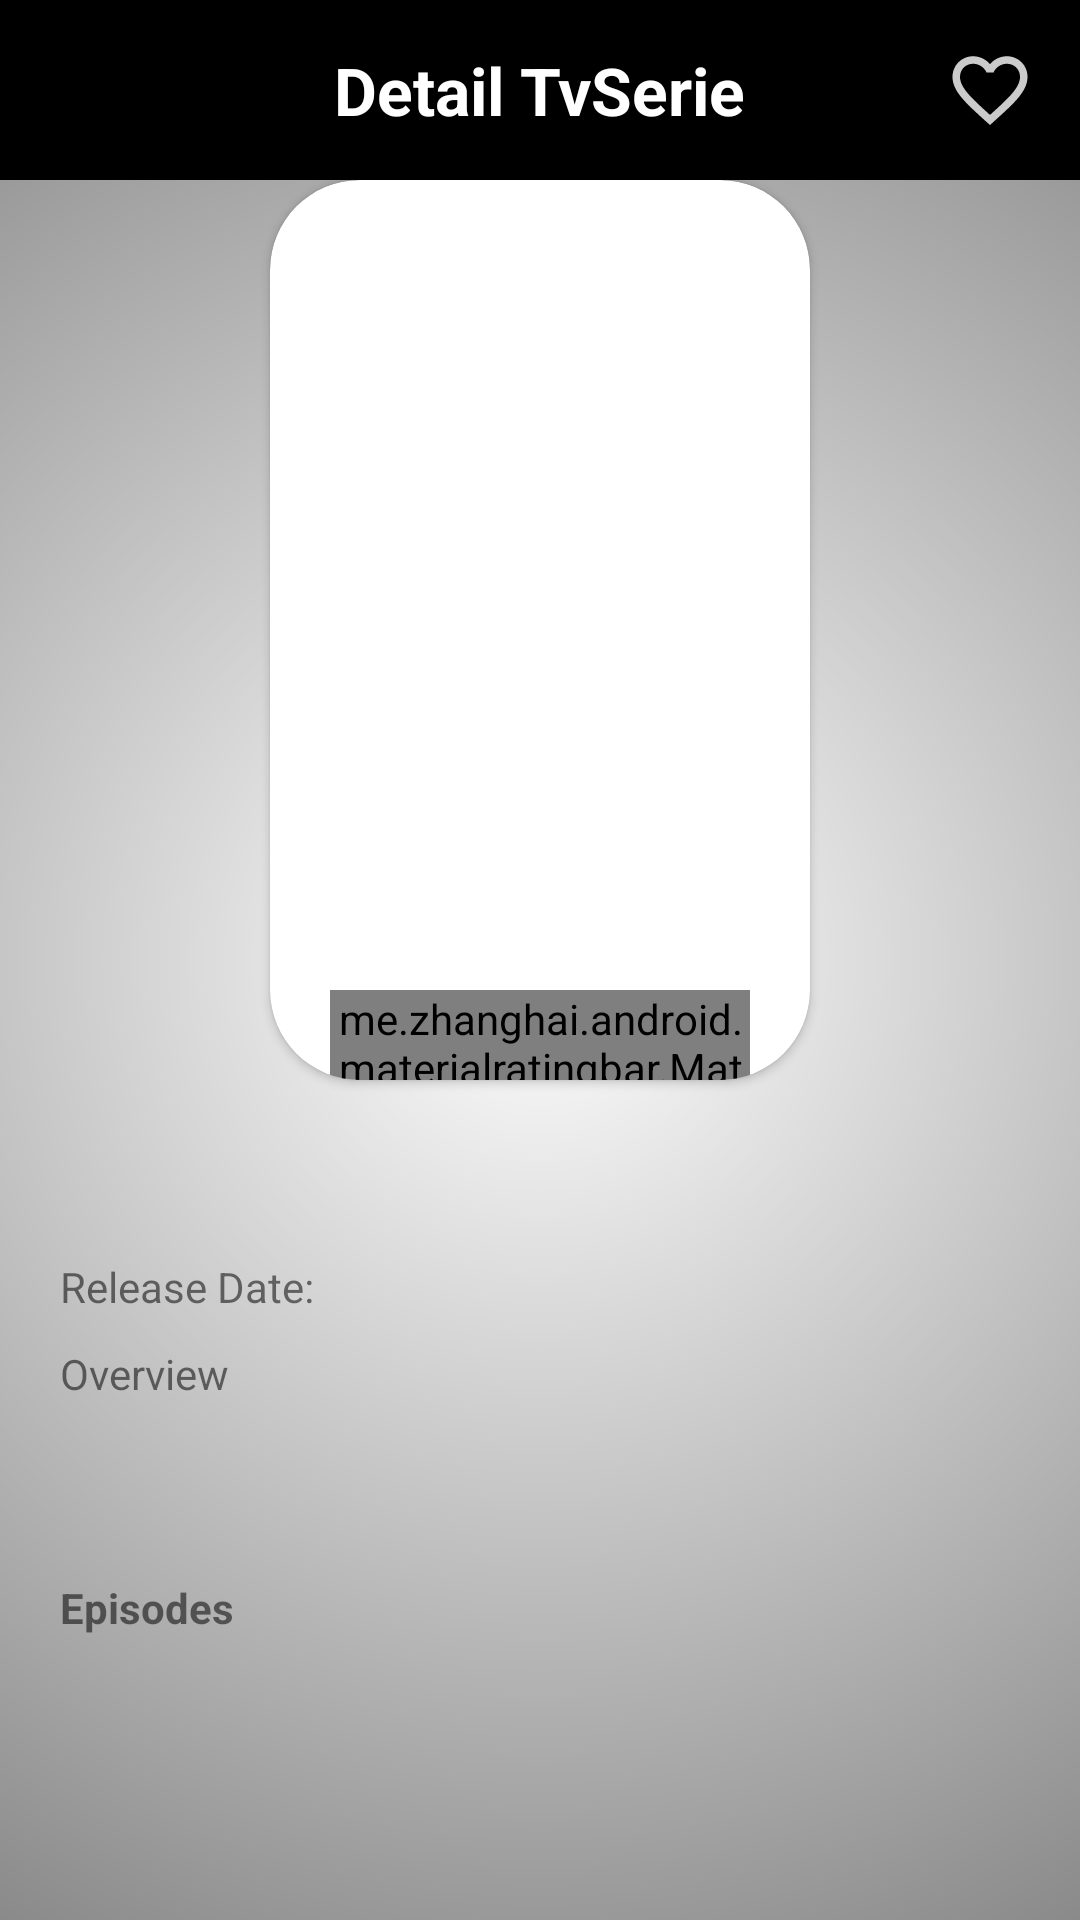

Icons on this 1080px×1920px Android screen, each with its box as (x1, y1, x2, y2):
favorite off: (952, 56, 1028, 125)
